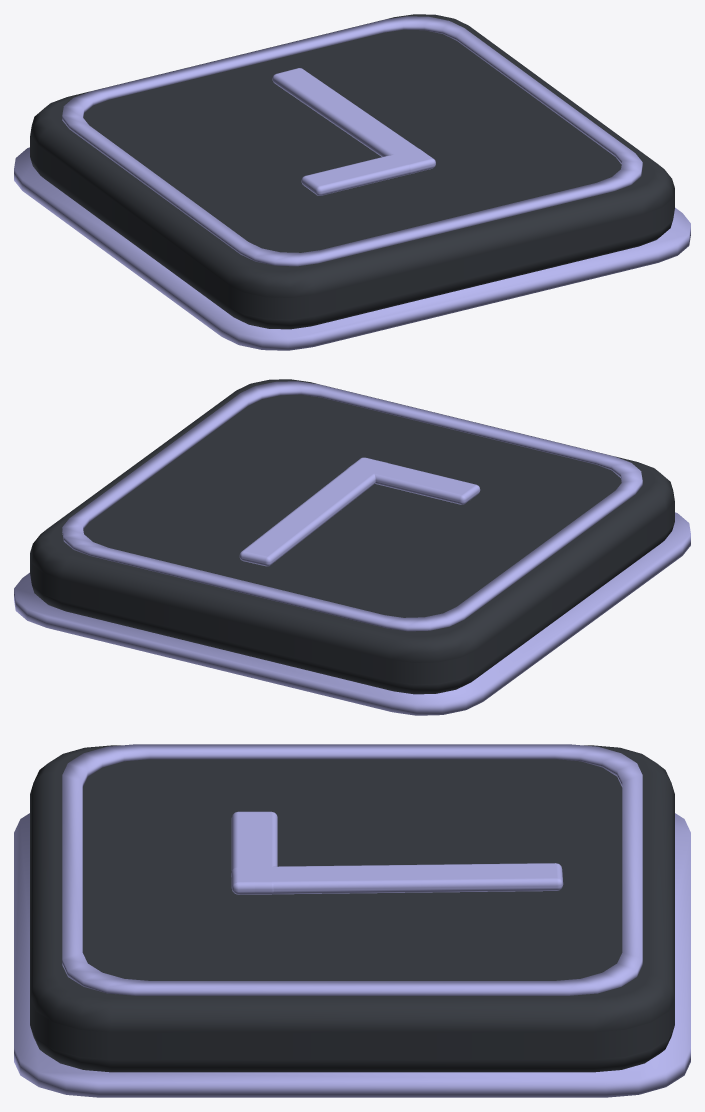
Rendered from scenario.glb.
3 views of the same model, one above another, from view 1: azimuth 30°, elevation 25°; view 2: azimuth 150°, elevation 25°; view 3: azimuth 270°, elevation 25° (orthographic). The views are drawn at different scales.
Parts seen in each view (by area): view 1: module, edge, rim, line.001, line; view 2: module, edge, rim, line.001, line; view 3: module, edge, rim, line.001, line.
Part boxes in pixels (box(x1,y1,x2,y2)): module: box(30, 14, 674, 329); edge: box(62, 16, 642, 266); rim: box(14, 147, 690, 350); line.001: box(272, 68, 435, 174); line: box(301, 149, 435, 195); module: box(30, 379, 674, 694); edge: box(62, 381, 642, 631); rim: box(14, 512, 690, 715); line.001: box(239, 458, 387, 566); line: box(347, 457, 480, 504); module: box(30, 745, 674, 1072); edge: box(62, 744, 642, 995); rim: box(14, 813, 690, 1097); line.001: box(231, 863, 563, 894); line: box(231, 811, 277, 894).
Size of the model in its own units: 0.588 by 0.09 by 0.588.
